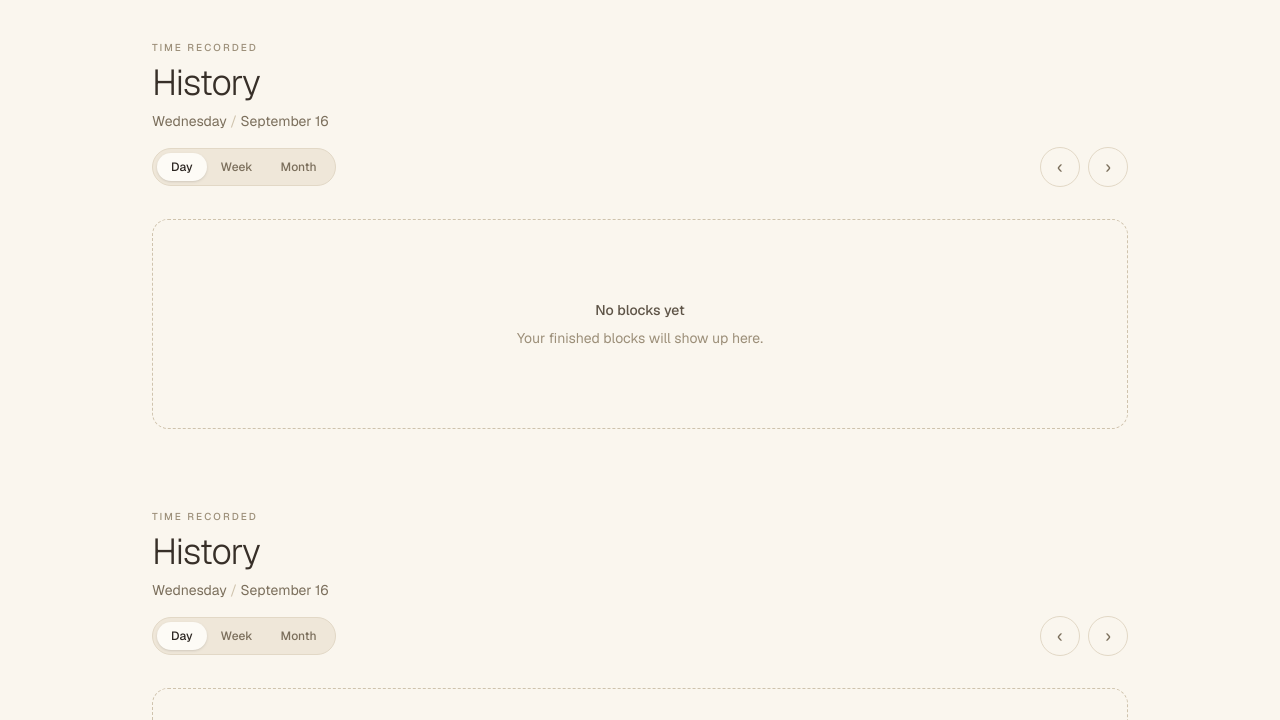
Test: HistoryPage view switch (SCR-20) › Week asks for the Monday-start range and keeps the anchor's day
Click the 2nd button "Week" at x=237, y=636, box [207,622,267,650]
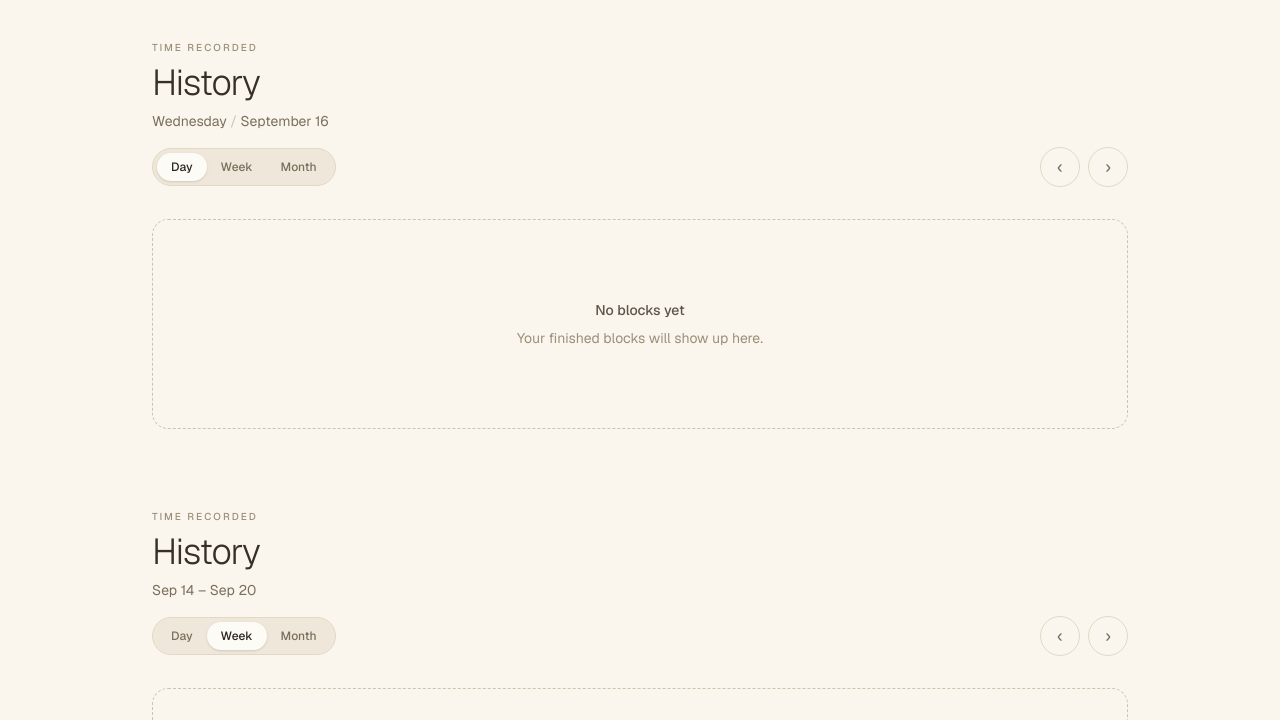
Expected: the text "Sep 14 – Sep 20" is shown, [152,581,256,599]
